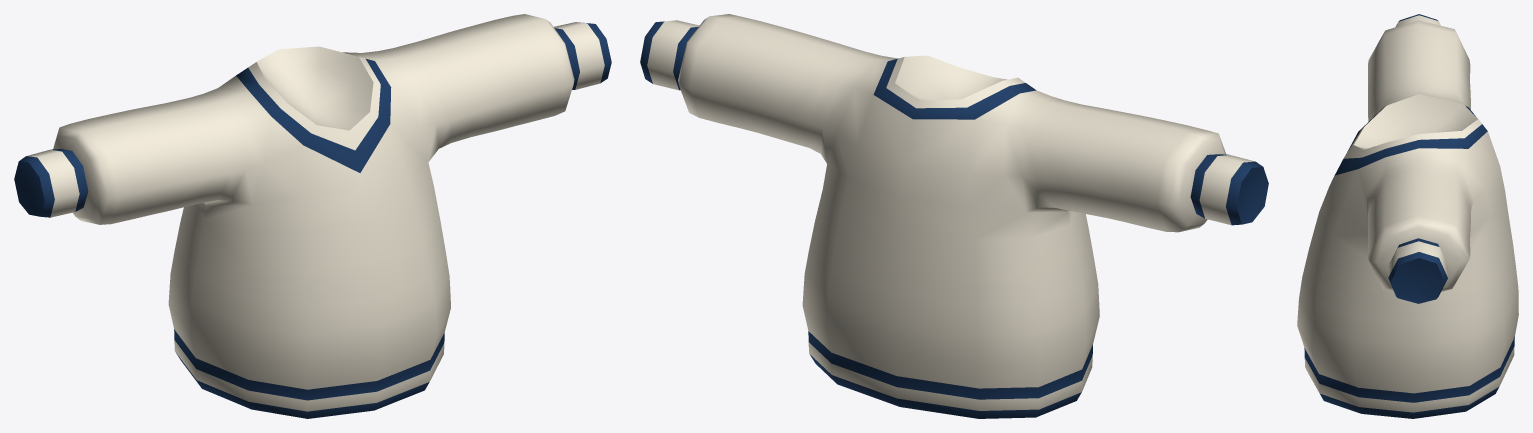
Rendered from Top_33.fbx.
The picture shows the model from 3 angles, left to right: view 1: azimuth 30°, elevation 25°; view 2: azimuth 150°, elevation 25°; view 3: azimuth 270°, elevation 25°; orthographic projection. The views are drawn at different scales.
Parts seen in each view (by area): view 1: Top_33; view 2: Top_33; view 3: Top_33.
Part boxes in pixels (x1,y1,x2,y2): Top_33: (14,14,611,418); Top_33: (640,14,1268,418); Top_33: (1297,14,1518,418).
Size of the model in its own units: 95.16 by 47.61 by 36.54.
